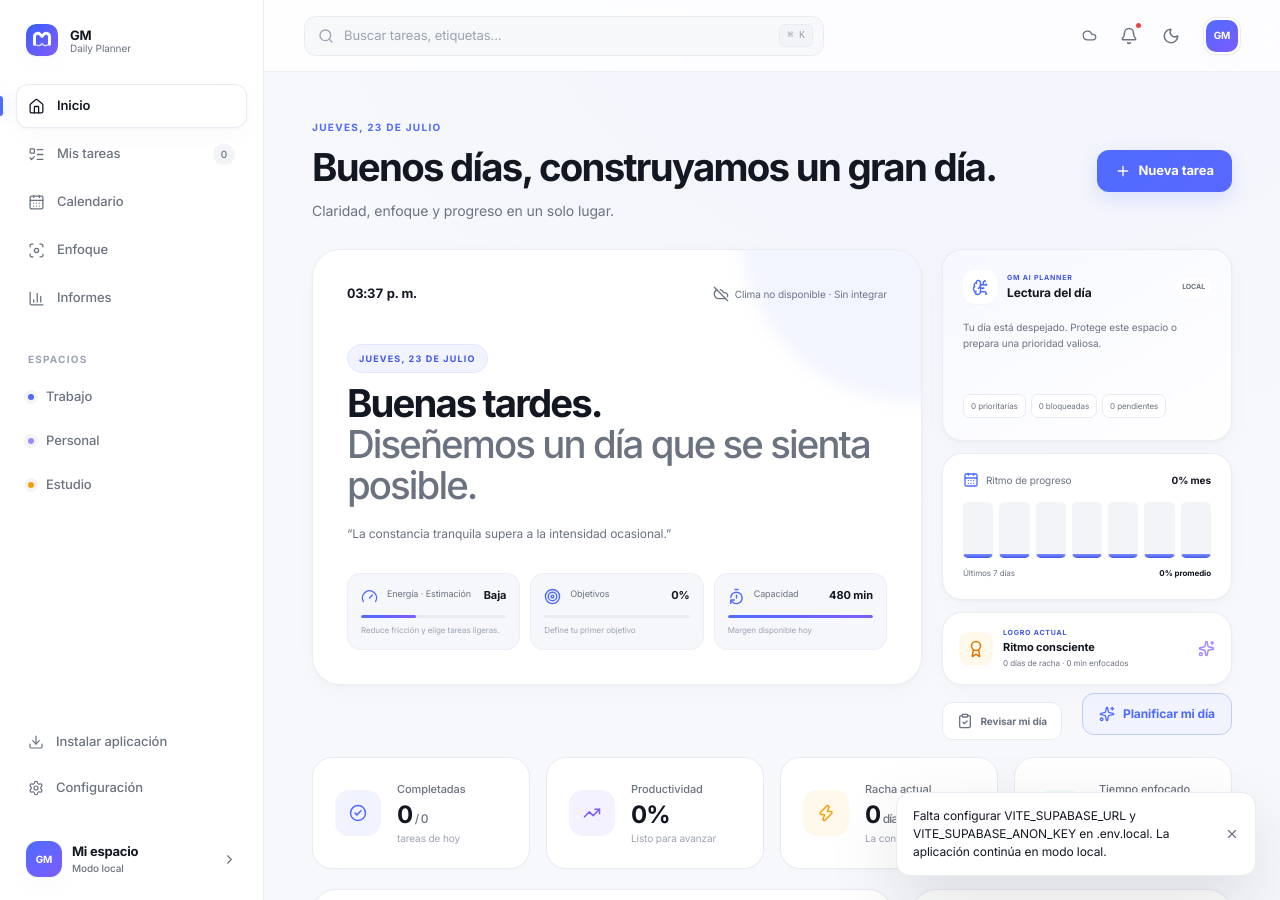
it: GM Daily Planner Pro › abre comandos rápidos con el teclado y navega sin ratón
Press k
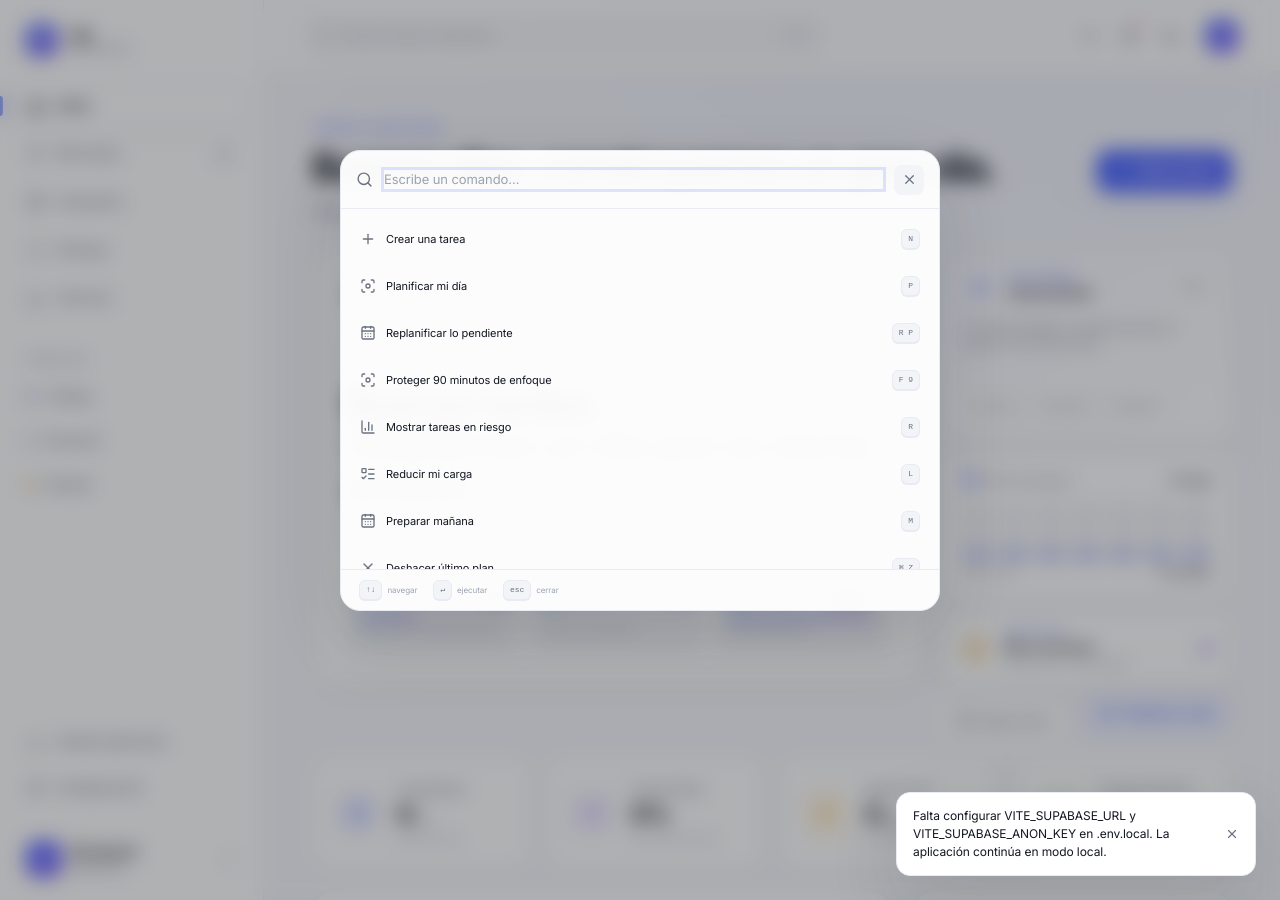
Now the dialog named "Comandos rápidos" is shown, box [340, 150, 940, 611]
Type "Informes" into the field named "Buscar comando" at (634, 180), box [384, 170, 883, 189]
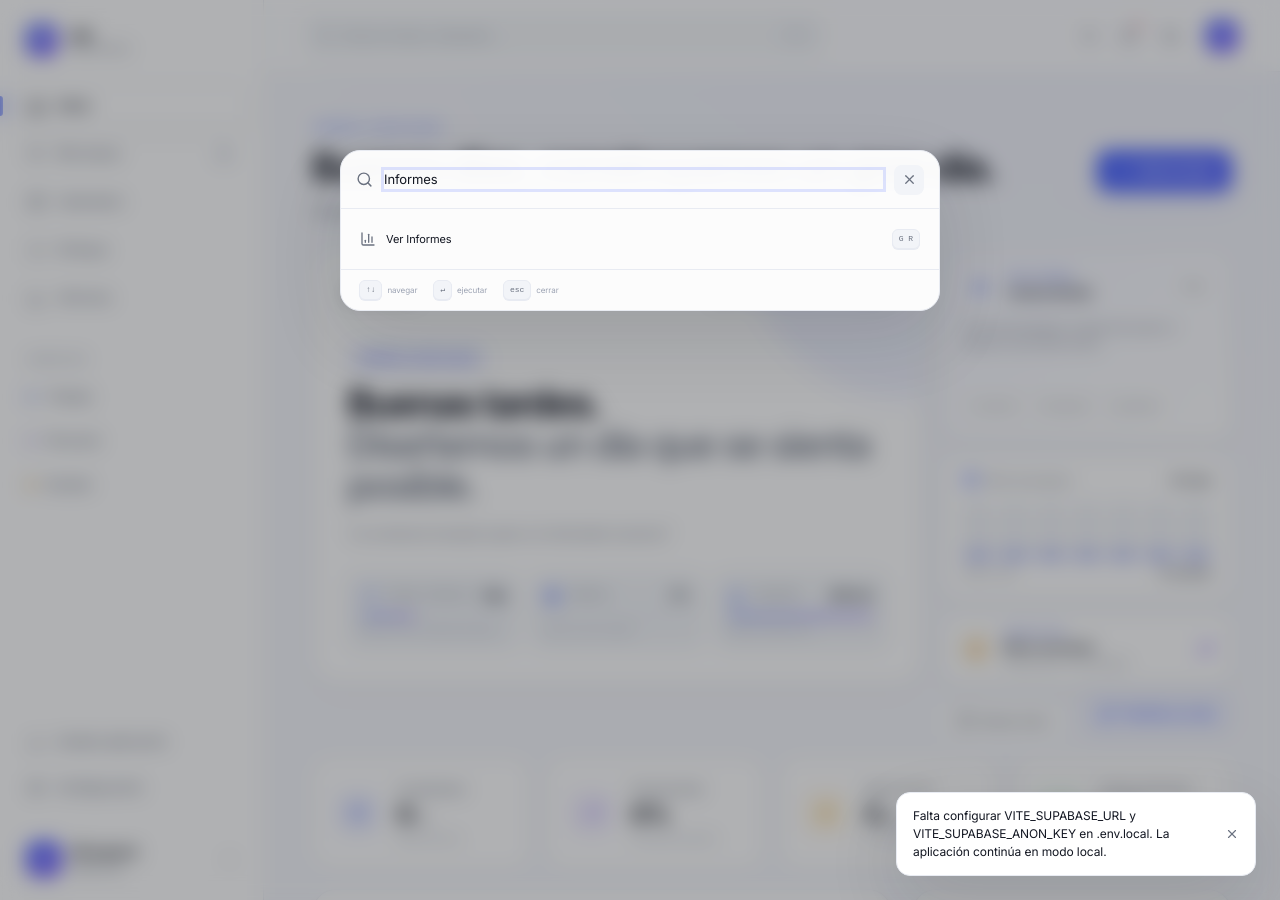
Click the button "Ver Informes G R" at (419, 239), box [349, 217, 931, 261]
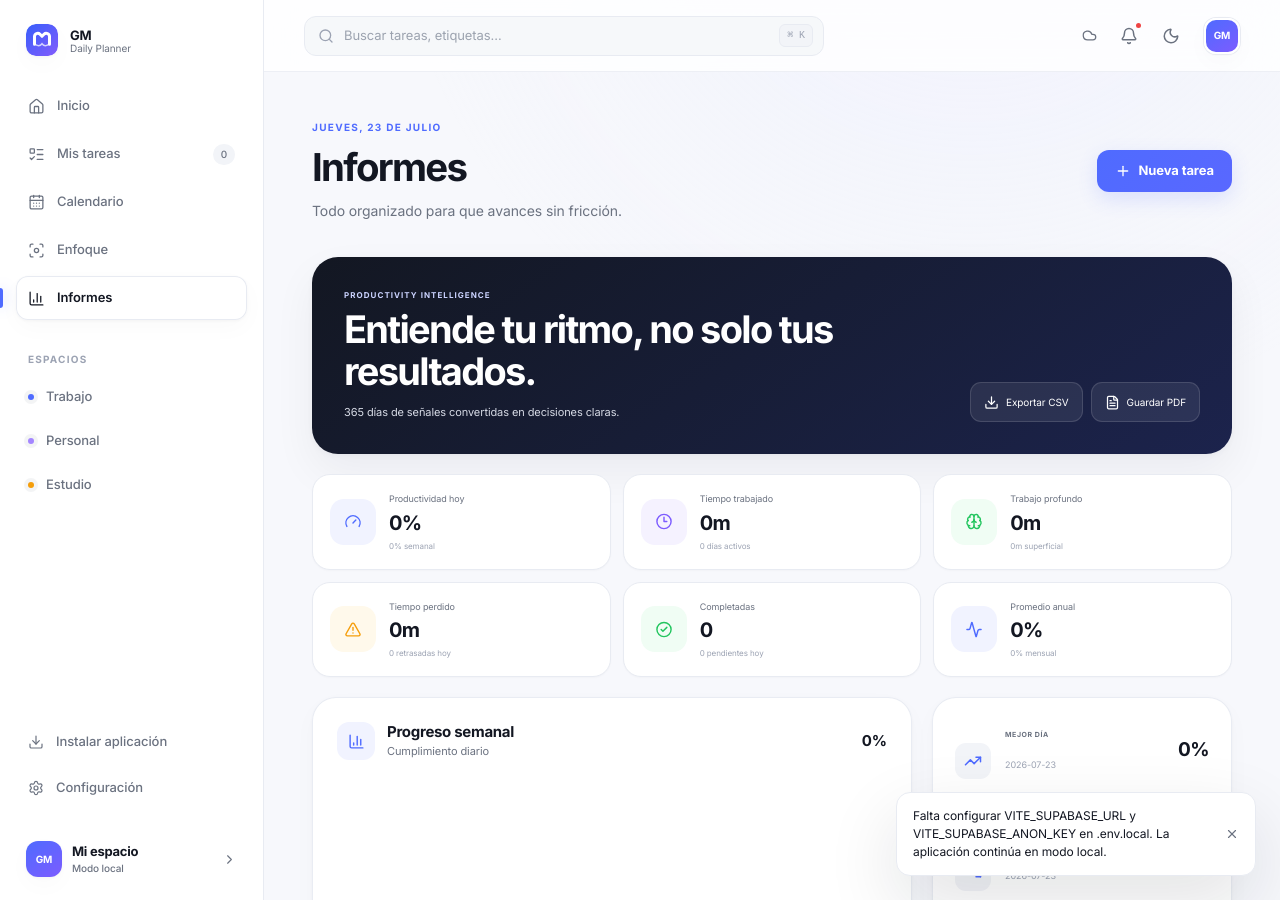
Now the heading "Entiende tu ritmo, no solo tus resultados." is shown, box [344, 306, 832, 394]
